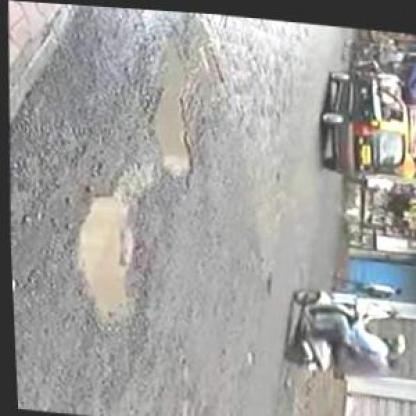pothole: (74, 184, 151, 330), (148, 21, 201, 187)
